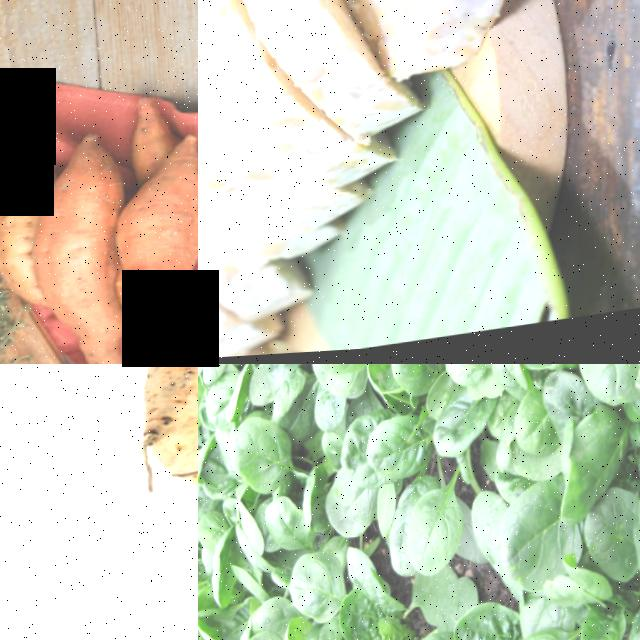spinach: (494, 487, 563, 596), (399, 488, 468, 584), (579, 492, 640, 593), (224, 417, 296, 500), (360, 411, 432, 488), (570, 364, 640, 419), (452, 601, 517, 640), (385, 364, 441, 403)
tempeh: (293, 0, 519, 78)
tofu: (22, 132, 136, 364), (104, 140, 198, 308)
